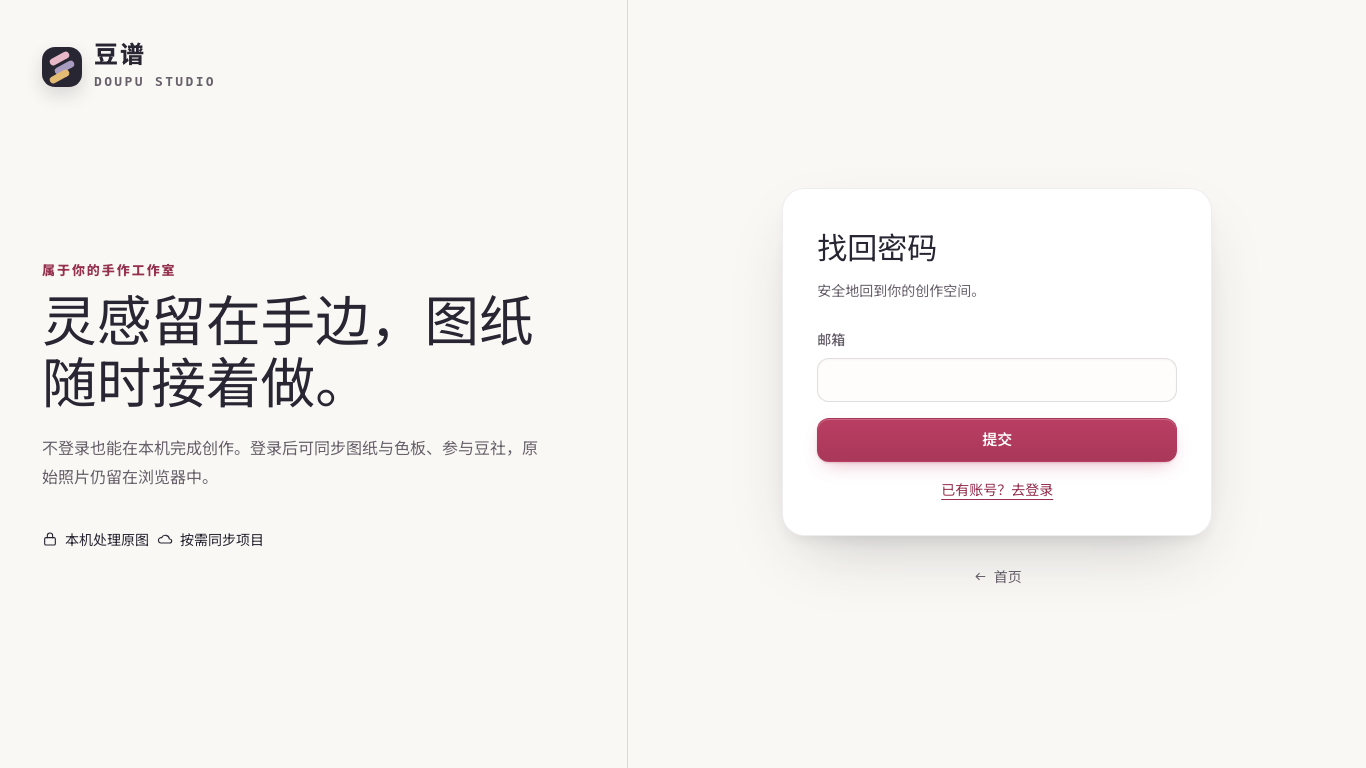
Test: forgot-password 页 › 开发邮件模式：响应带 x-dev-mail-link 时展示可点击的重置链接
In the field labelled "邮箱": x=997, y=380 [817,358,1177,402], type "a@b.com"
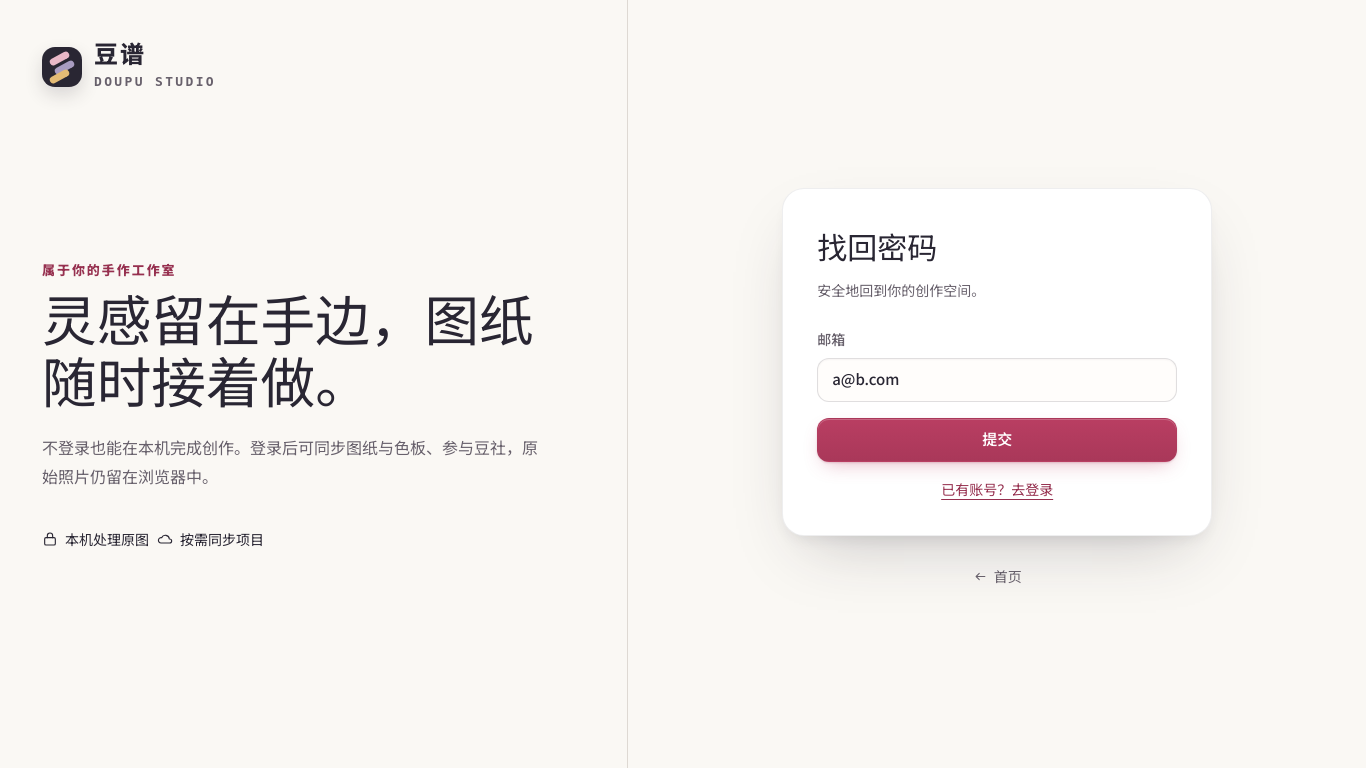
Click the button "提交": x=997, y=440 [817,418,1177,462]
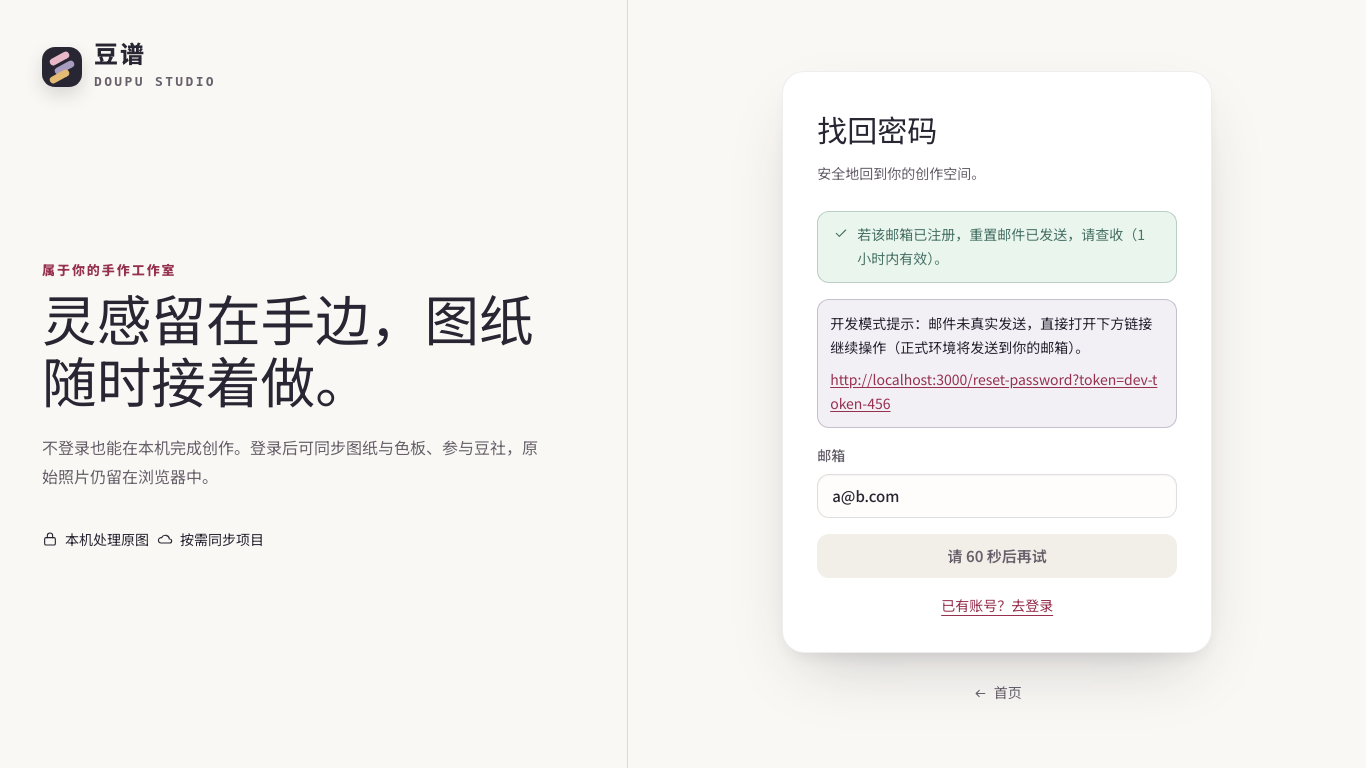
Expected: the text "开发模式提示：邮件未真实发送，直接打开下方链接继续操作（正式环境将发送到你的邮箱）。" is shown, [830,312,1164,360]
